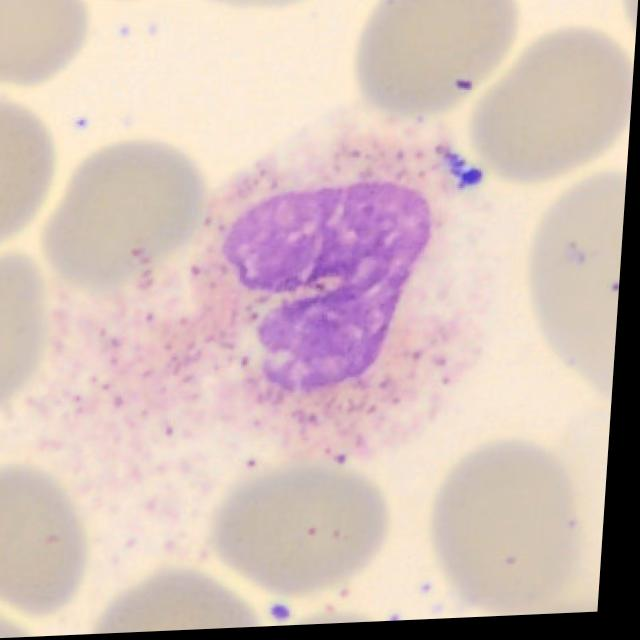Neutrofilo segmentado: (193, 113, 485, 462)
